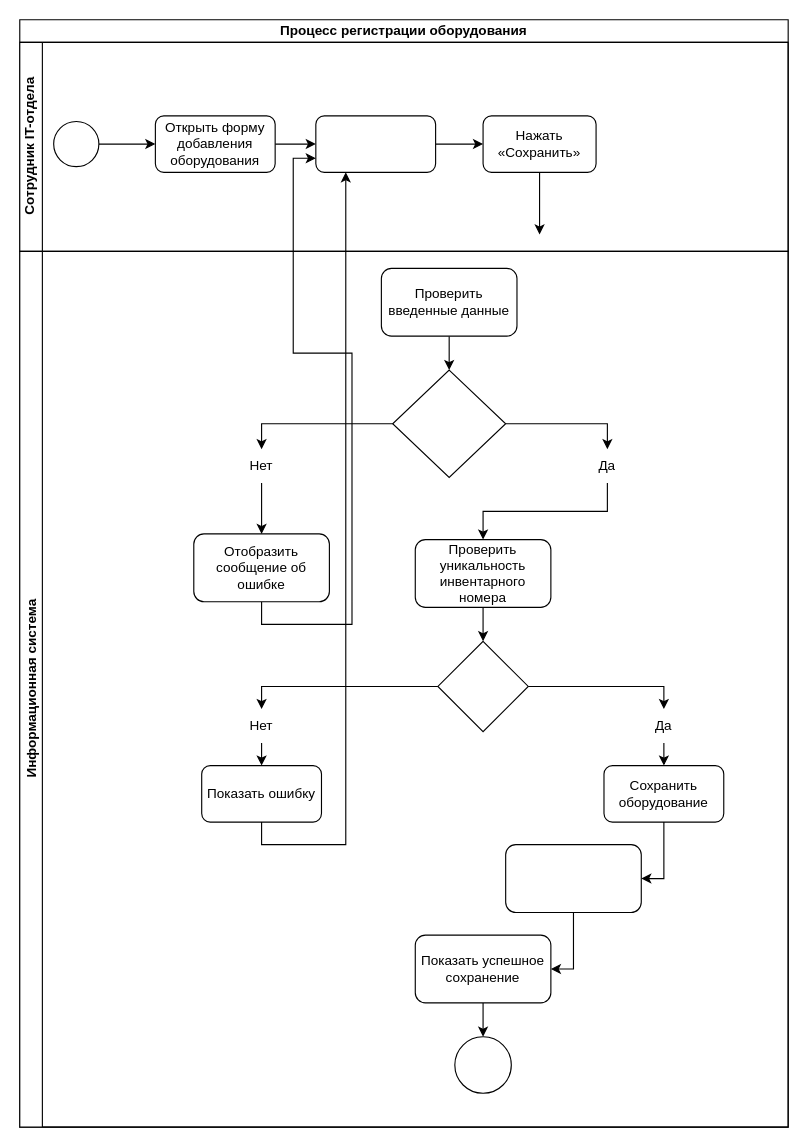
The diagram is 808 pixels wide and 1147 high, and some of its shapes have lost their labels. The shapes that lost their labels are listed below. From the top down, each one's centre as x and y in pixels, then its label:
point 76,143: Начало
point 375,143: Ввести сведения об оборудовании
point 449,423: Данные корректны?
point 482,686: Номер уникален?
point 573,878: Записать действие в журнал
point 482,1064: Конец
